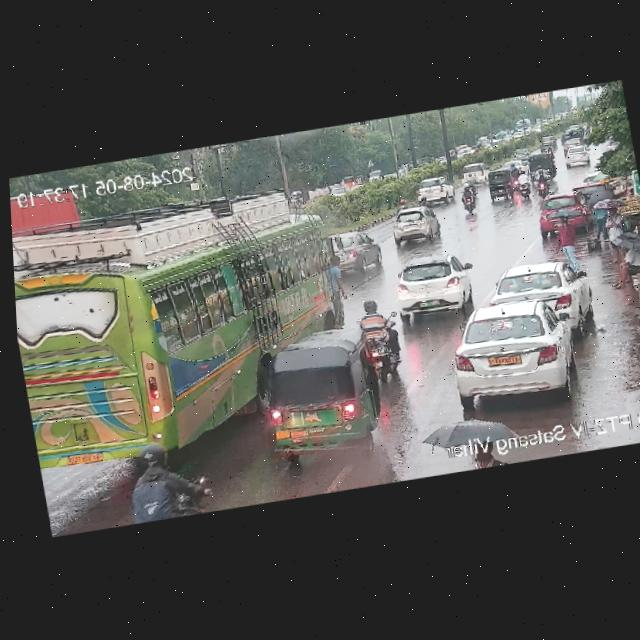bus: (9, 164, 368, 441)
car: (254, 323, 385, 461), (440, 294, 582, 405), (488, 254, 591, 327), (387, 248, 478, 327), (326, 224, 383, 275), (382, 201, 444, 247), (532, 189, 590, 237), (411, 176, 454, 208), (482, 167, 515, 204), (560, 144, 594, 168), (457, 162, 488, 187)
motorcycle: (123, 459, 214, 523), (350, 293, 407, 374), (453, 184, 482, 214), (508, 166, 533, 200), (531, 162, 552, 200), (541, 142, 555, 158)
person: (585, 179, 640, 241), (549, 207, 595, 271), (603, 238, 640, 292)
